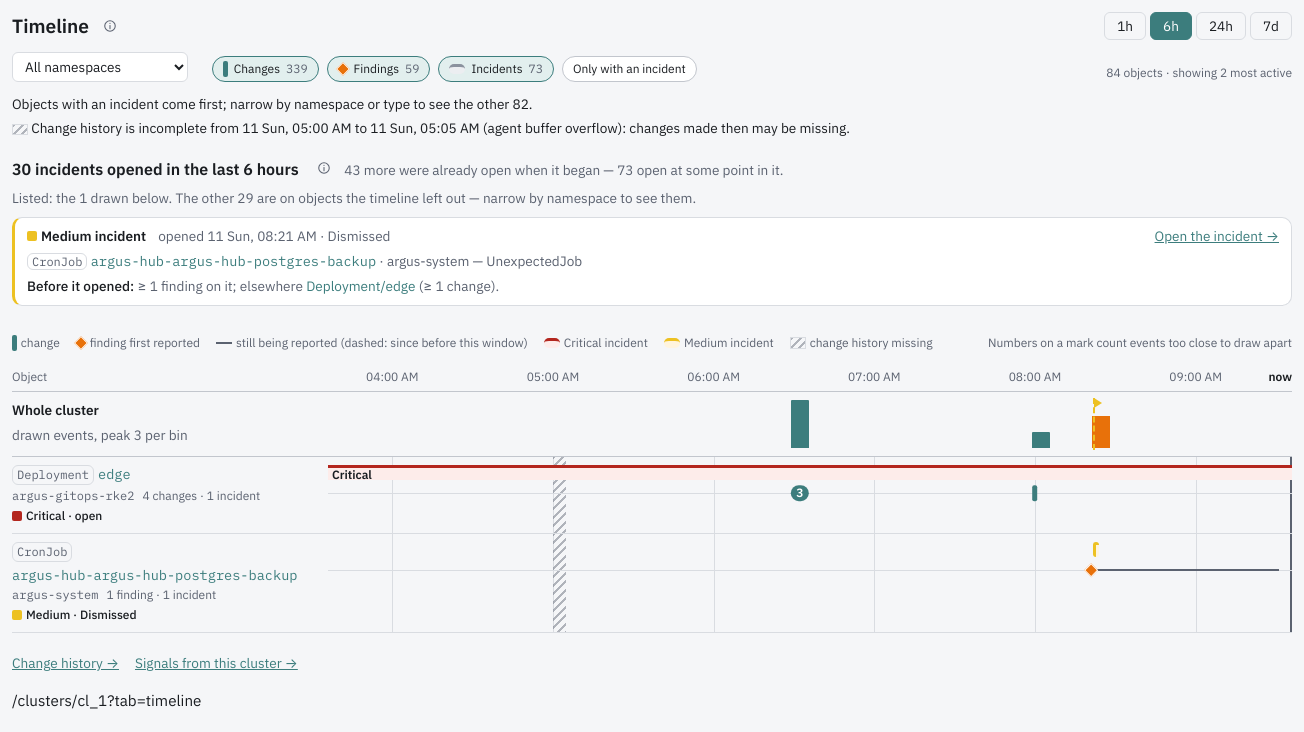
ClusterTimeline › sends every filter to the hub rather than filtering the page
Check: the button with aria-label "Open Deployment edge" is shown, box left=98, top=465, right=131, bottom=483
Click the button "Findings 59" at coordinates (378, 69), box left=327, top=56, right=430, bottom=82
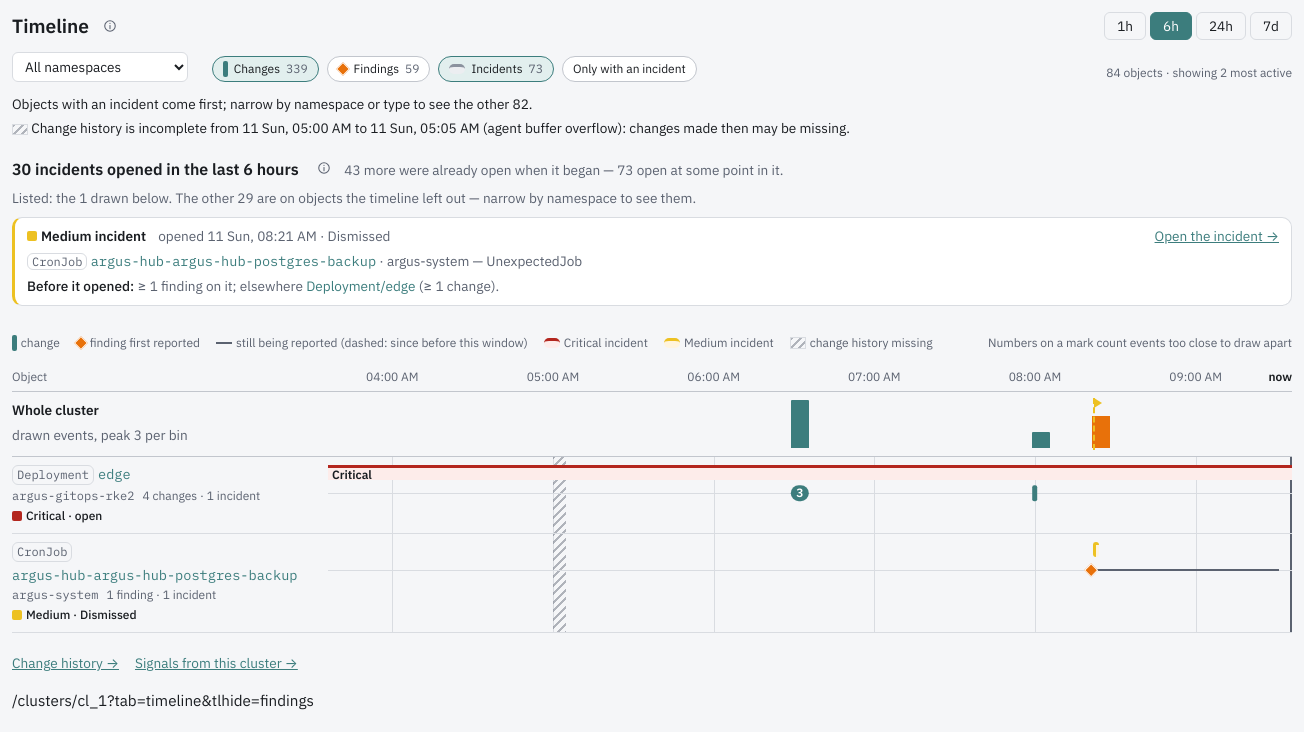
Select "argus-system" in the dropdown named "Namespace" at coordinates (100, 67), box left=12, top=52, right=188, bottom=82
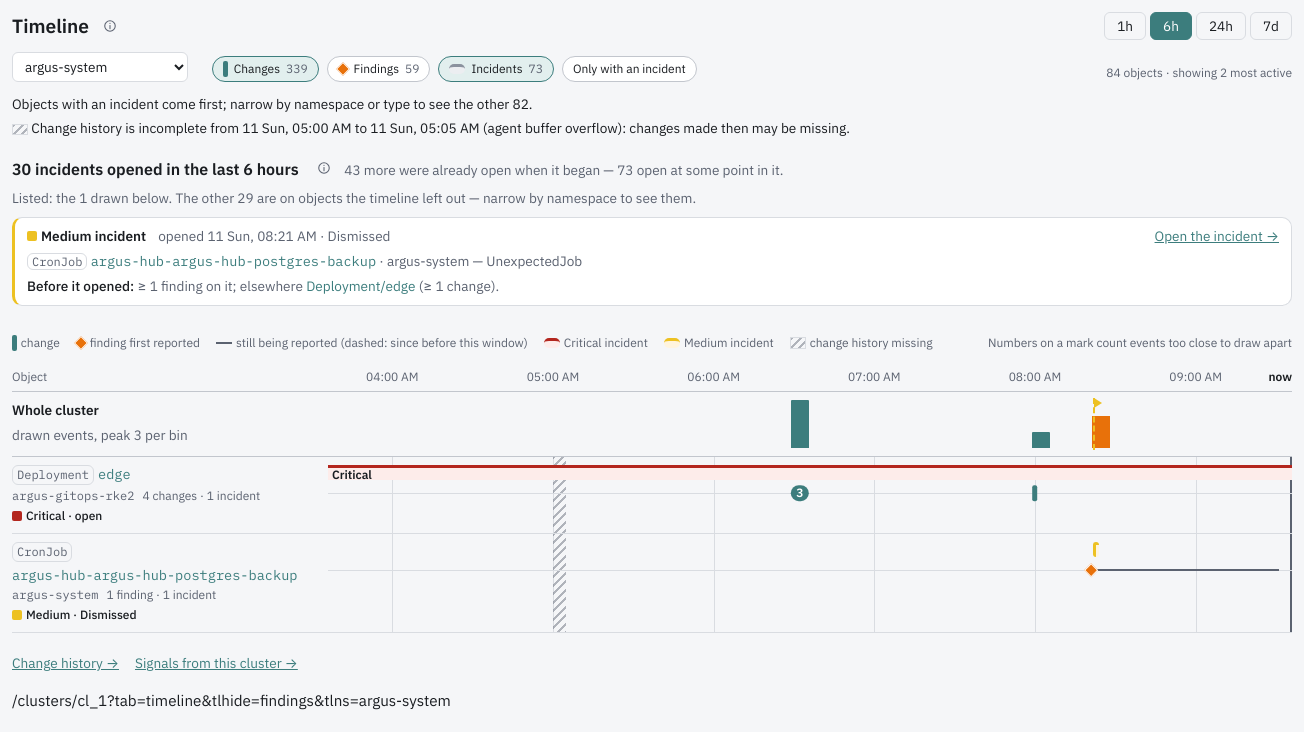
Click the button "Only with an incident" at coordinates (629, 69), box left=562, top=56, right=697, bottom=82
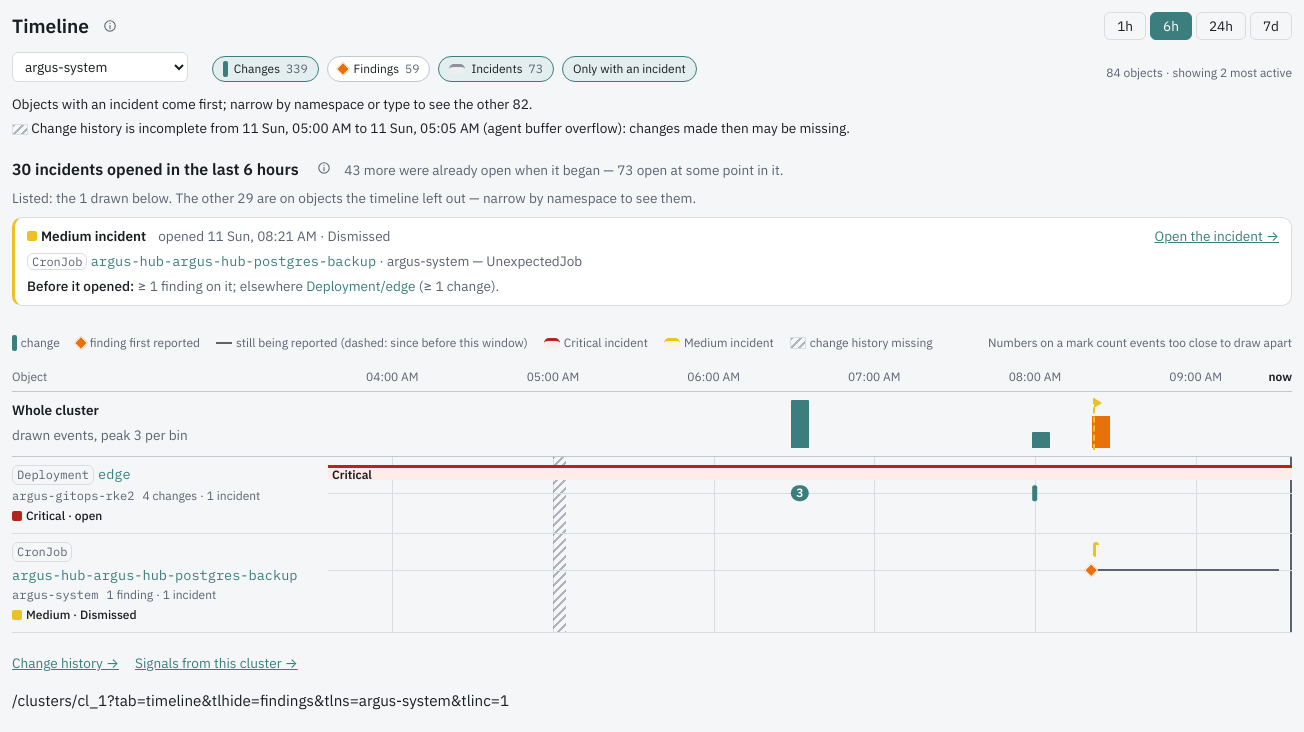
Click the button "24h" at coordinates (1221, 26), box left=1196, top=12, right=1246, bottom=40
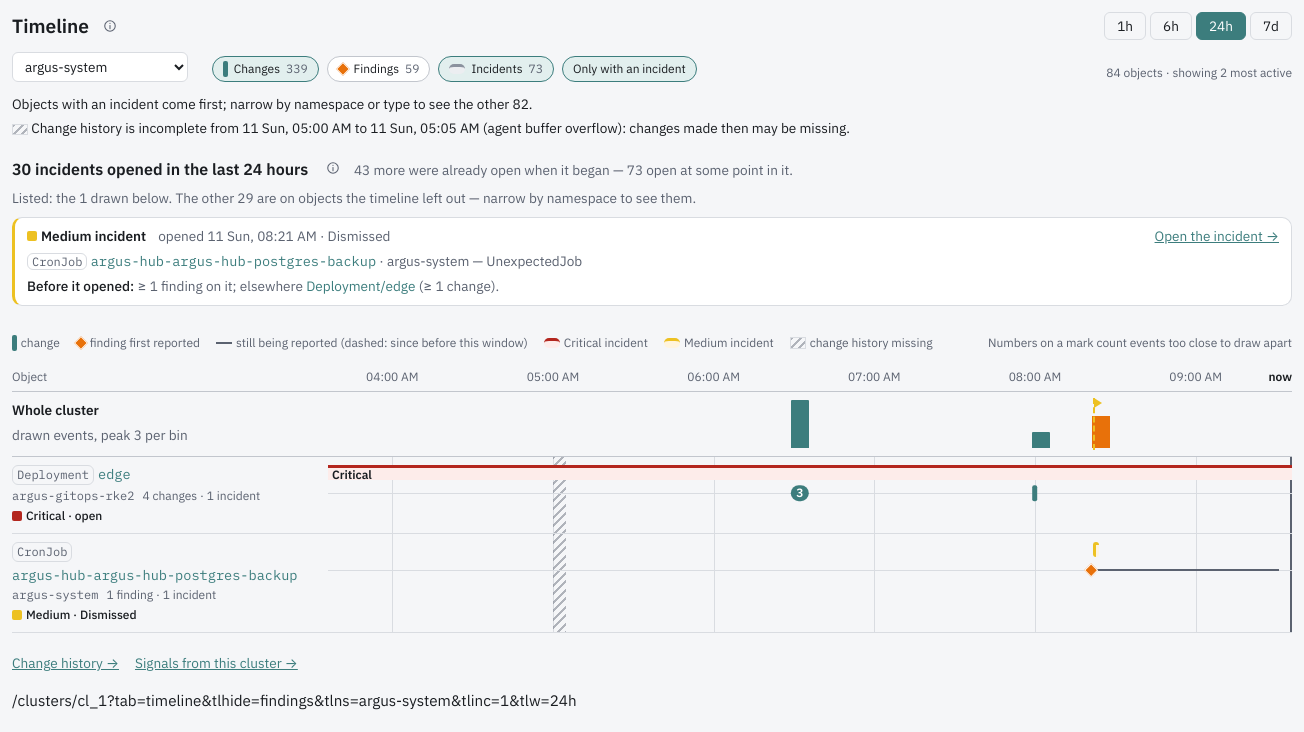
Check: the text with test id "where" shows "tlw=24h", box left=12, top=690, right=577, bottom=710
